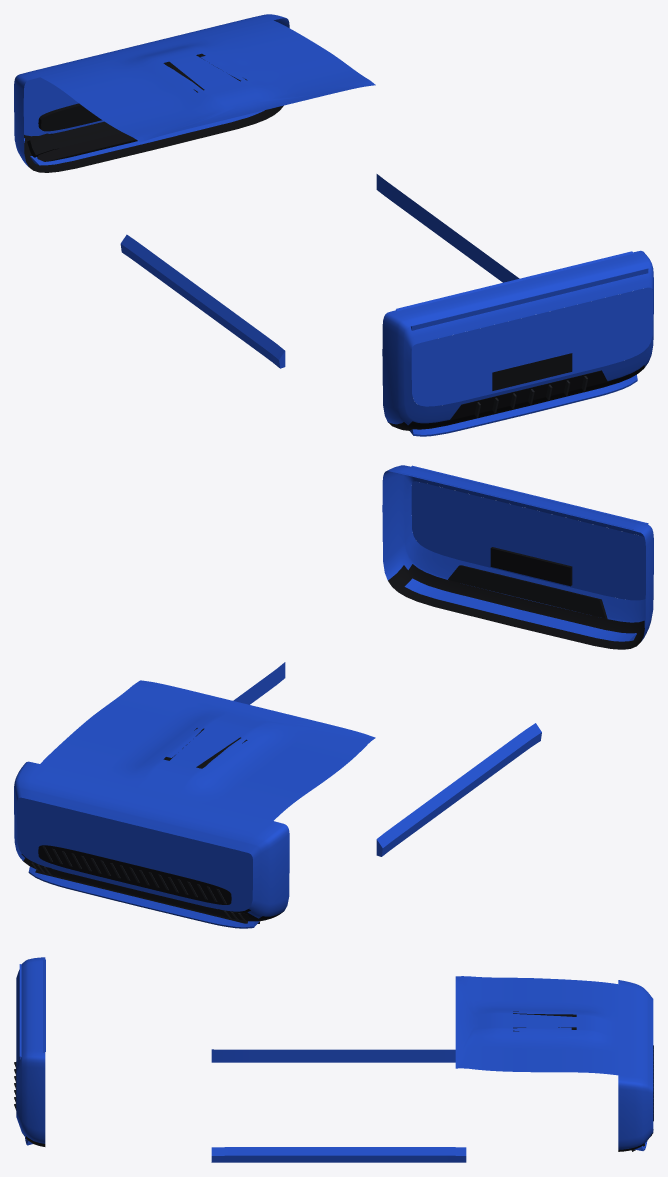
File: kit_street.glb
3 views of the same model, one above another, from view 1: azimuth 30°, elevation 25°; view 2: azimuth 150°, elevation 25°; view 3: azimuth 270°, elevation 25° (orthographic). The views are drawn at different scales.
Parts seen in each view (by area): view 1: bumper_front__street, hood__street, bumper_rear__street, skirts__street, spoiler__street; view 2: bumper_front__street, hood__street, bumper_rear__street, skirts__street, spoiler__street; view 3: hood__street, skirts__street, bumper_front__street, bumper_rear__street, spoiler__street.
Boxes of the visible parts, left/top/right/bottom form: bumper_front__street: left=14, top=14, right=652, bottom=406; hood__street: left=40, top=20, right=375, bottom=142; bumper_rear__street: left=382, top=250, right=653, bottom=436; skirts__street: left=120, top=174, right=519, bottom=368; spoiler__street: left=396, top=251, right=648, bottom=330; bumper_front__street: left=14, top=481, right=645, bottom=928; hood__street: left=40, top=680, right=375, bottom=820; bumper_rear__street: left=382, top=465, right=653, bottom=649; skirts__street: left=233, top=662, right=541, bottom=856; spoiler__street: left=396, top=465, right=648, bottom=529; hood__street: left=455, top=976, right=618, bottom=1075; skirts__street: left=211, top=1049, right=466, bottom=1162; bumper_front__street: left=618, top=980, right=653, bottom=1151; bumper_rear__street: left=14, top=957, right=45, bottom=1146; spoiler__street: left=19, top=959, right=45, bottom=1059.
Size of what is drawn, in the model's own units: 1.79 by 0.8542 by 4.66.
